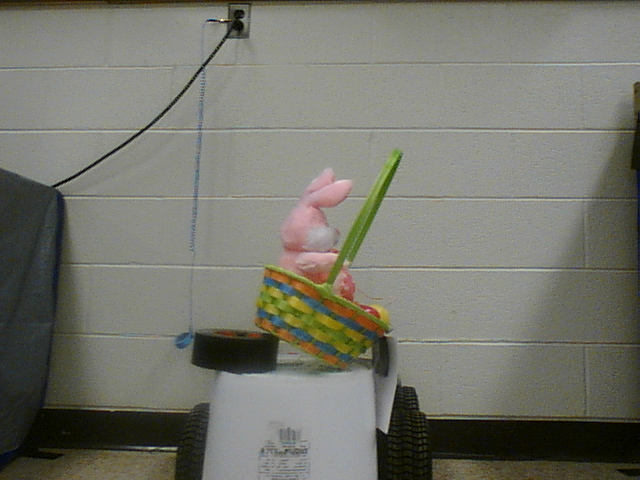bunny: (240, 141, 409, 370)
